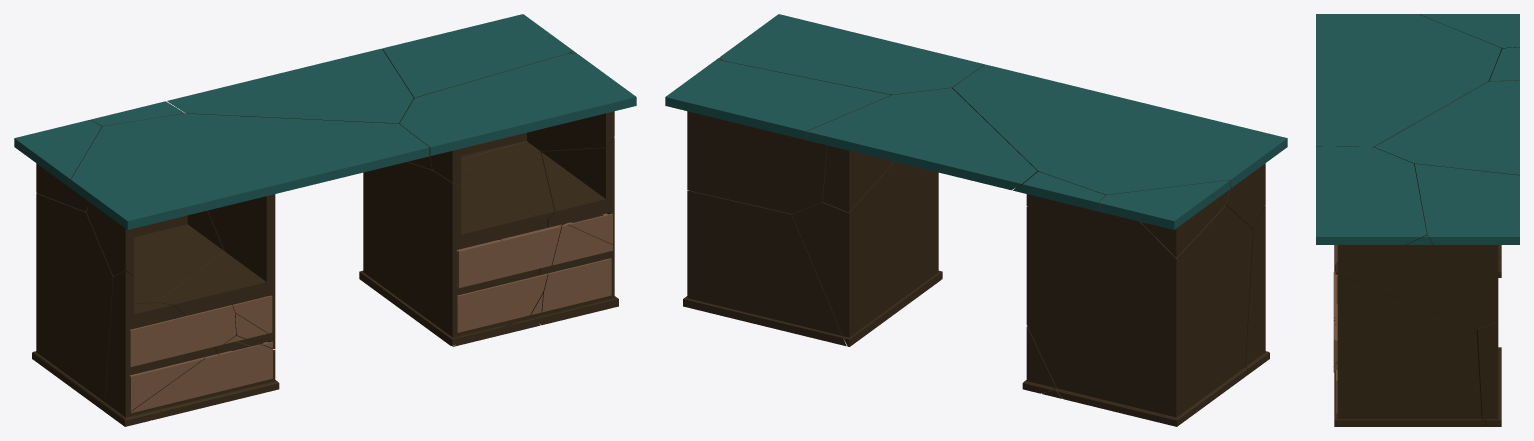
File: Escritorio_Roto.fbx
3 renders of one model, left to right at view 1: azimuth 30°, elevation 25°; view 2: azimuth 150°, elevation 25°; view 3: azimuth 270°, elevation 25°, orthographic. The views are drawn at different scales.
Visible parts, largest first — view 1: Escritorio.003_cell.007, Escritorio.002_cell.003, Escritorio.002_cell.010, Escritorio.003_cell.004, Escritorio.003_cell.005, Escritorio.002_cell.012, Escritorio.003_cell.001, Escritorio.002_cell.011, Escritorio_cell.001, Escritorio.002_cell.005, Escritorio.002_cell.007, Escritorio_cell.011 (+10 smaller); view 2: Escritorio.002_cell.010, Escritorio.003_cell.007, Escritorio.002_cell.003, Escritorio.002_cell.004, Escritorio.003_cell.005, Escritorio.003_cell.004, Escritorio.002_cell.011, Escritorio.003_cell.001, Escritorio.003_cell, Escritorio.002_cell, Escritorio.002_cell.007, Escritorio.003_cell.003 (+3 smaller); view 3: Escritorio.003_cell.007, Escritorio.002_cell.005, Escritorio.002_cell.011, Escritorio.003_cell.004, Escritorio.003_cell.005, Escritorio.003_cell.001, Escritorio.002_cell.004, Escritorio.003_cell, Escritorio.003_cell.003, Escritorio_cell.001.
Boxes of the visible parts, <box> form: Escritorio.003_cell.007: <box>71,113,429,229</box>; Escritorio.002_cell.003: <box>359,162,547,345</box>; Escritorio.002_cell.010: <box>32,193,250,409</box>; Escritorio.003_cell.004: <box>399,53,636,156</box>; Escritorio.003_cell.005: <box>167,48,413,123</box>; Escritorio.002_cell.012: <box>86,194,275,349</box>; Escritorio.003_cell.001: <box>382,14,573,98</box>; Escritorio.002_cell.011: <box>429,111,614,219</box>; Escritorio_cell.001: <box>456,226,561,332</box>; Escritorio.002_cell.005: <box>532,137,618,325</box>; Escritorio.002_cell.007: <box>102,271,216,426</box>; Escritorio_cell.011: <box>129,305,235,410</box>; Escritorio.002_cell.010: <box>1026,199,1252,426</box>; Escritorio.003_cell.007: <box>952,64,1287,194</box>; Escritorio.002_cell.003: <box>791,161,942,346</box>; Escritorio.002_cell.004: <box>683,190,846,346</box>; Escritorio.003_cell.005: <box>807,88,1036,190</box>; Escritorio.003_cell.004: <box>720,14,984,95</box>; Escritorio.002_cell.011: <box>687,111,827,213</box>; Escritorio.003_cell.001: <box>665,60,891,140</box>; Escritorio.003_cell: <box>1099,180,1230,229</box>; Escritorio.002_cell: <box>822,145,893,212</box>; Escritorio.002_cell.007: <box>1245,205,1269,375</box>; Escritorio.003_cell.003: <box>1013,171,1105,212</box>; Escritorio.003_cell.007: <box>1316,14,1501,147</box>; Escritorio.002_cell.005: <box>1334,275,1484,426</box>; Escritorio.002_cell.011: <box>1337,242,1498,328</box>; Escritorio.003_cell.004: <box>1316,146,1426,244</box>; Escritorio.003_cell.005: <box>1374,80,1519,175</box>; Escritorio.003_cell.001: <box>1414,163,1519,244</box>; Escritorio.002_cell.004: <box>1475,322,1501,426</box>; Escritorio.003_cell: <box>1419,14,1519,49</box>; Escritorio.003_cell.003: <box>1488,47,1519,81</box>; Escritorio_cell.001: <box>1333,272,1337,338</box>.
Bounding box in the file's own units: 159 × 64.26 × 61.45.
